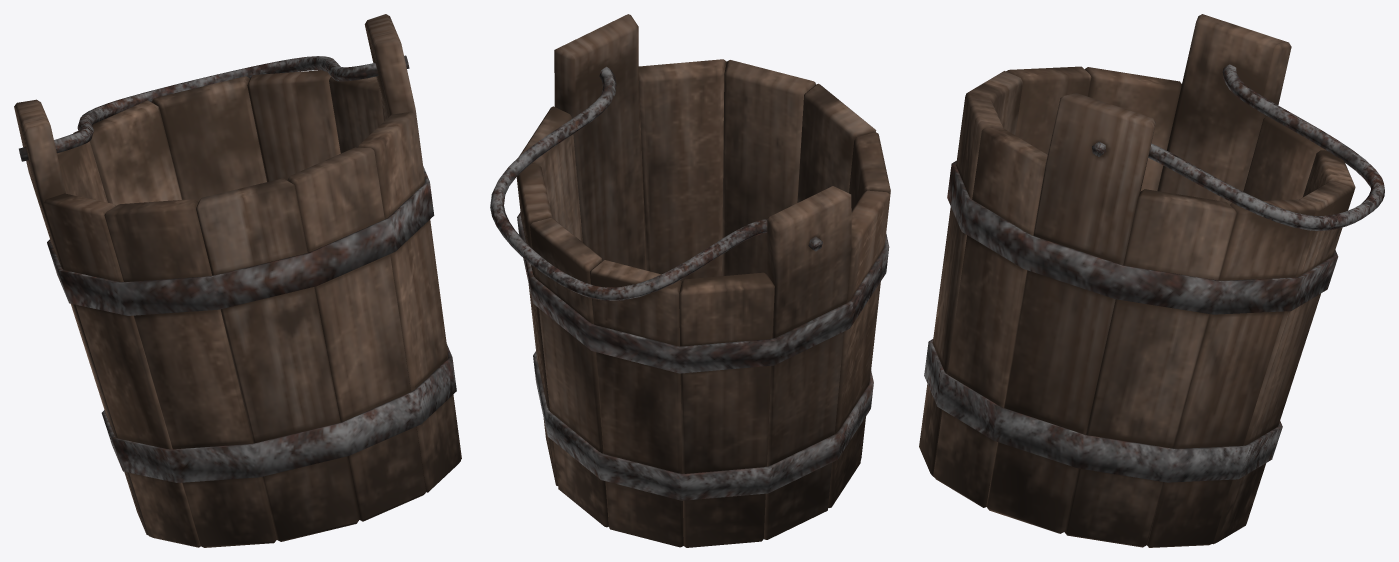
Rendered from well_bucket.glb.
The picture shows the model from 3 angles, left to right: view 1: azimuth 30°, elevation 25°; view 2: azimuth 150°, elevation 25°; view 3: azimuth 270°, elevation 25°; orthographic projection. The views are drawn at different scales.
Visible parts, largest first — view 1: Bucket_Wood_0; view 2: Bucket_Wood_0; view 3: Bucket_Wood_0.
Boxes of the visible parts, left/top/right/bottom form: Bucket_Wood_0: left=14, top=14, right=461, bottom=547; Bucket_Wood_0: left=490, top=14, right=890, bottom=547; Bucket_Wood_0: left=919, top=14, right=1384, bottom=547.
Bounding box in the file's own units: 0.6984 × 0.8706 × 0.7797.
Materials: 3 (3 with a texture image).
